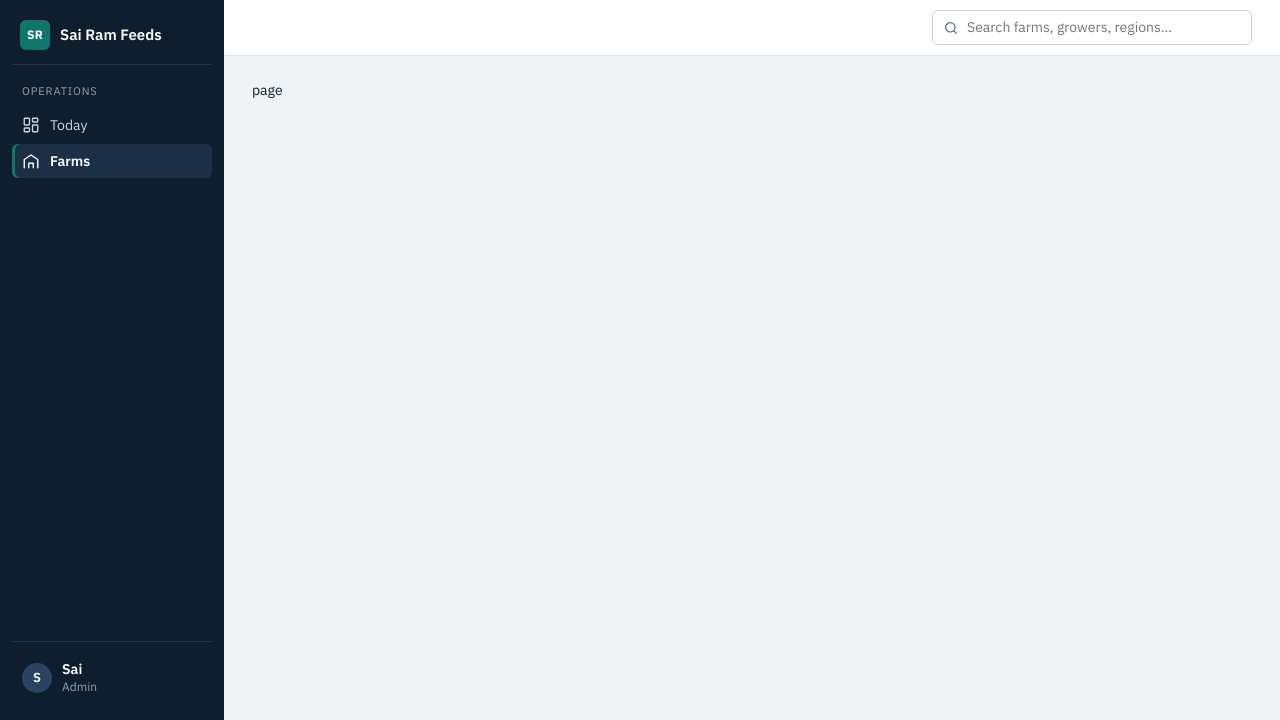
Test: admin sees Settings in the user menu
Click the button "S Sai admin": (112, 678) left=12, top=652, right=212, bottom=704
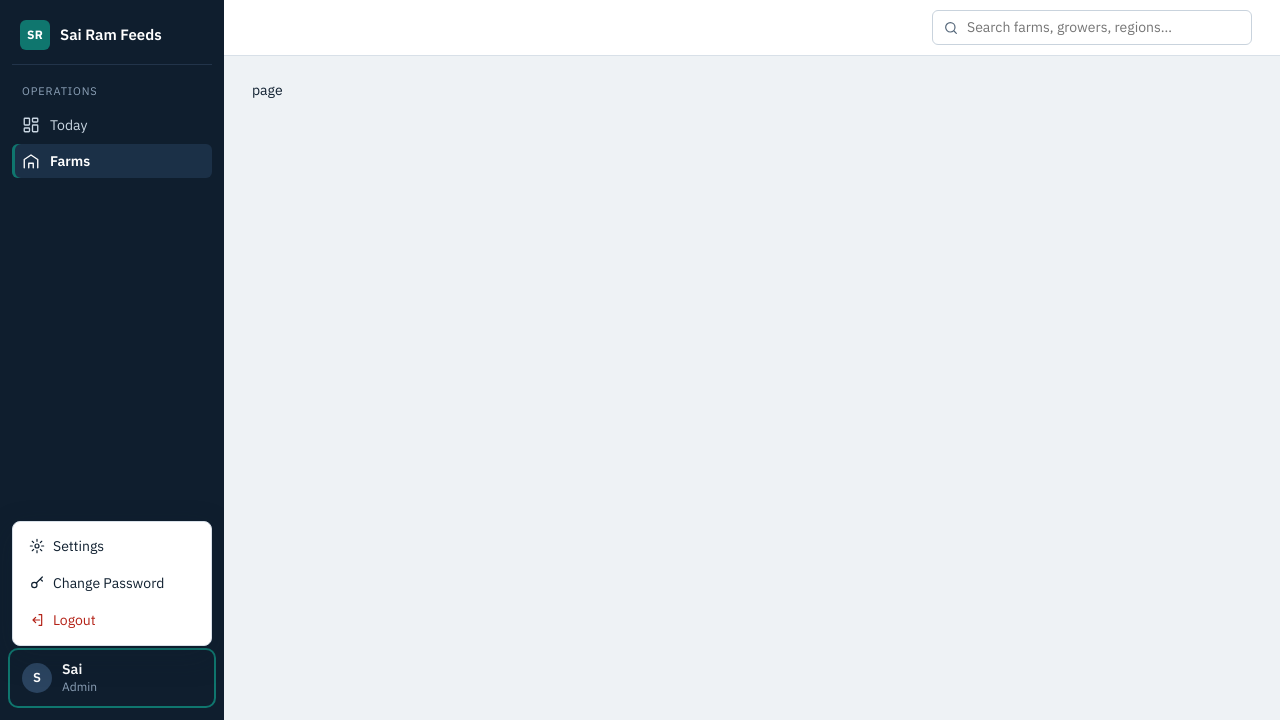
Now the link "Settings" is shown, box left=29, top=537, right=104, bottom=555
